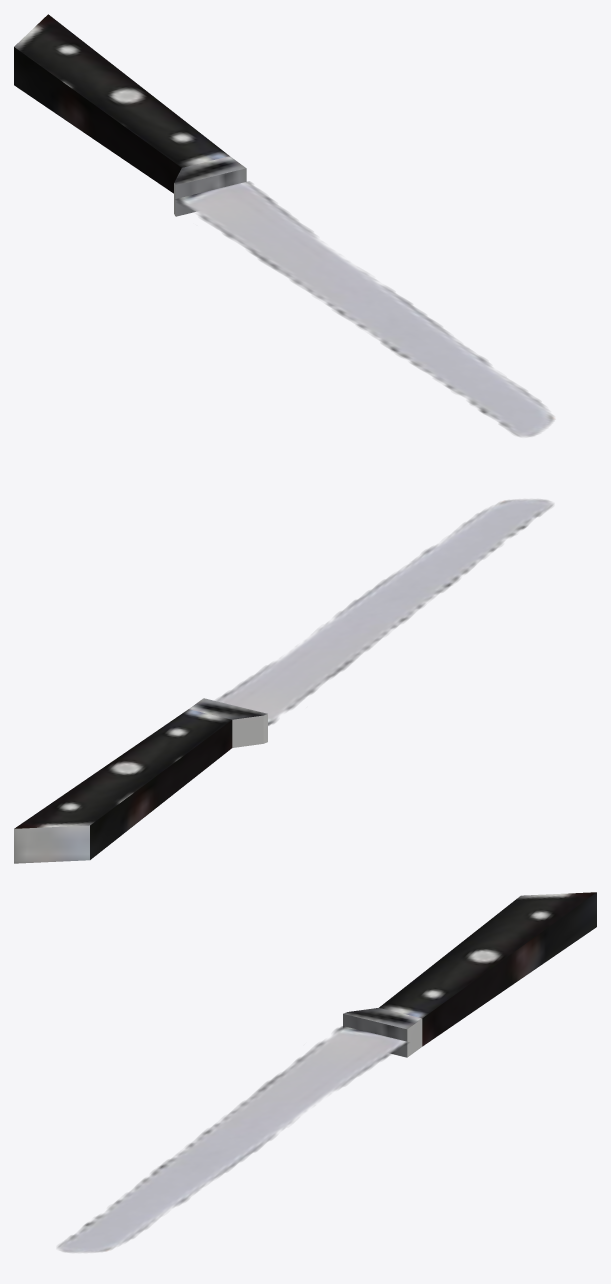
Rendered from Knife_04.glb.
3 views of the same model, one above another, from view 1: azimuth 30°, elevation 25°; view 2: azimuth 150°, elevation 25°; view 3: azimuth 330°, elevation 25° (orthographic). The views are drawn at different scales.
Visible parts, largest first — view 1: Knife_04; view 2: Knife_04; view 3: Knife_04.
Part boxes in pixels (x1,y1,x2,y2): Knife_04: (14,14,554,437); Knife_04: (14,499,553,863); Knife_04: (57,892,596,1252).
Size of the model in its own units: 0.0798 by 0.0263 by 0.6754.
1 material, 1 textured.
